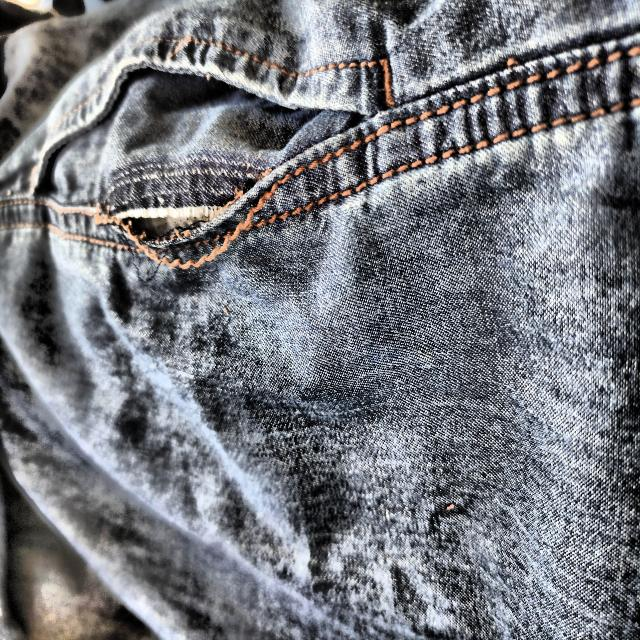seam: (64, 186, 275, 267)
